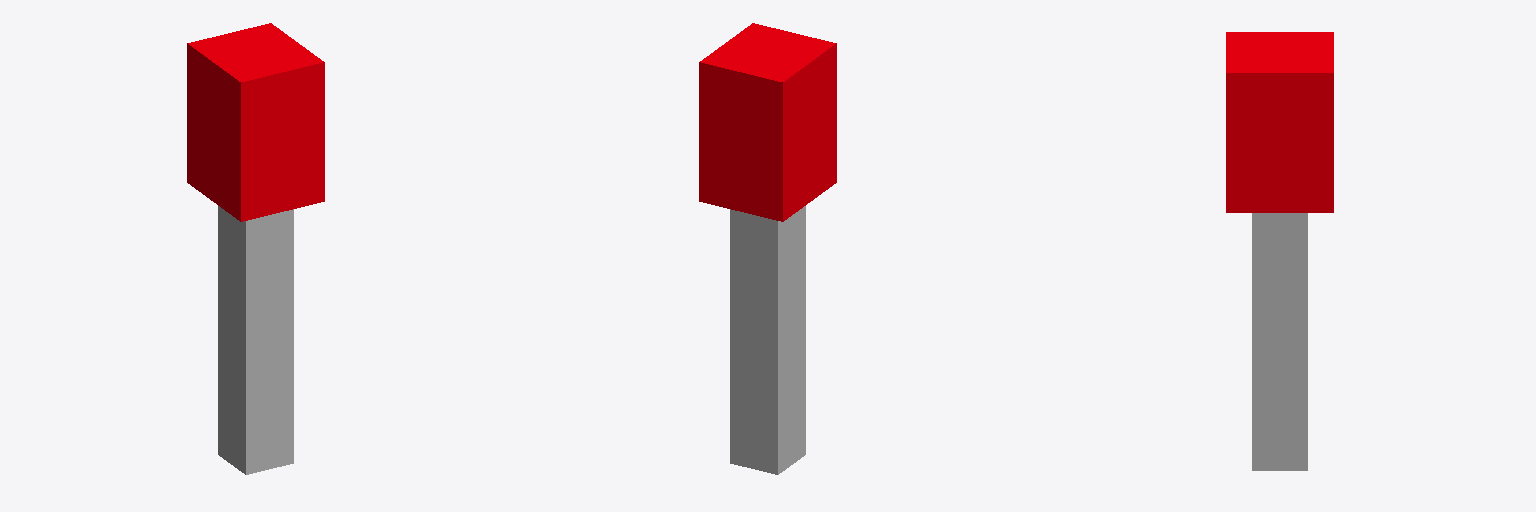
3 views of the same model, side by side, from view 1: azimuth 30°, elevation 25°; view 2: azimuth 150°, elevation 25°; view 3: azimuth 270°, elevation 25° (orthographic).
Parts seen in each view (by area): view 1: 立方体; view 2: 立方体; view 3: 立方体.
Part boxes in pixels (x1,y1,x2,y2): 立方体: (187, 23, 324, 474); 立方体: (699, 23, 836, 474); 立方体: (1226, 32, 1333, 470).
Size of the model in its own units: 0.4636 by 2.15 by 0.5143.
Materials: 2 (1 with a texture image).